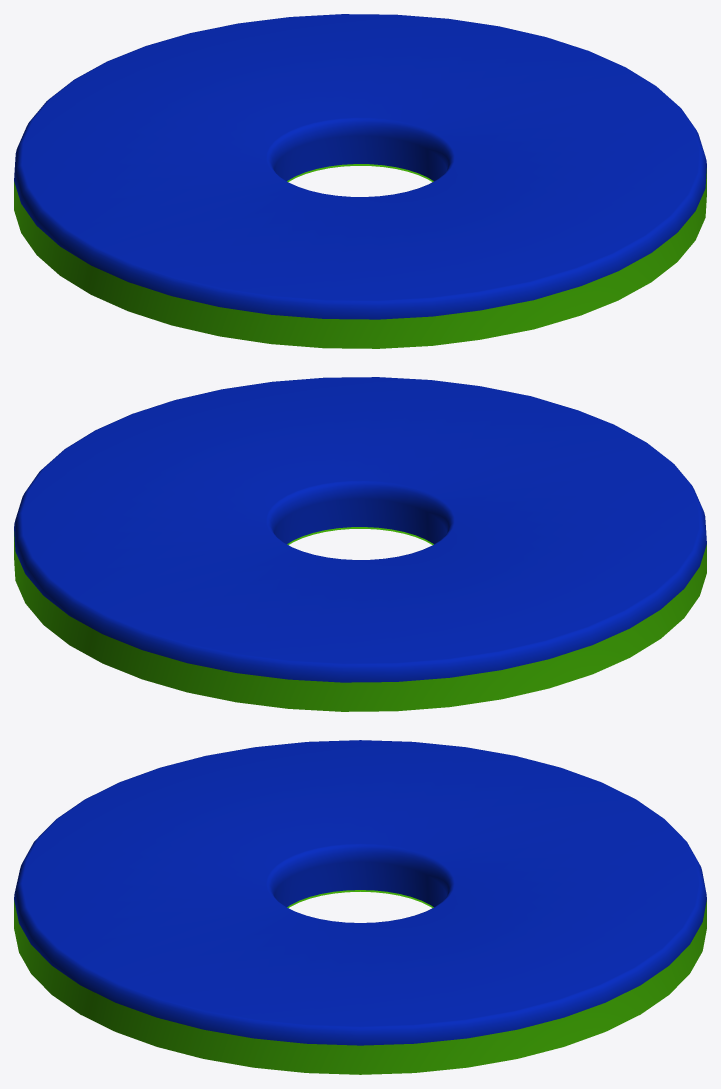
The picture shows the model from 3 angles, top to bottom: view 1: azimuth 30°, elevation 25°; view 2: azimuth 150°, elevation 25°; view 3: azimuth 270°, elevation 25°; orthographic projection.
Parts seen in each view (by area): view 1: pCylinder2.001; view 2: pCylinder2.001; view 3: pCylinder2.001.
Part boxes in pixels (x1,y1,x2,y2): pCylinder2.001: (14,14,706,348); pCylinder2.001: (14,377,706,711); pCylinder2.001: (14,740,706,1074).
Bounding box in the file's own units: 13.85 × 0.9924 × 13.85.
